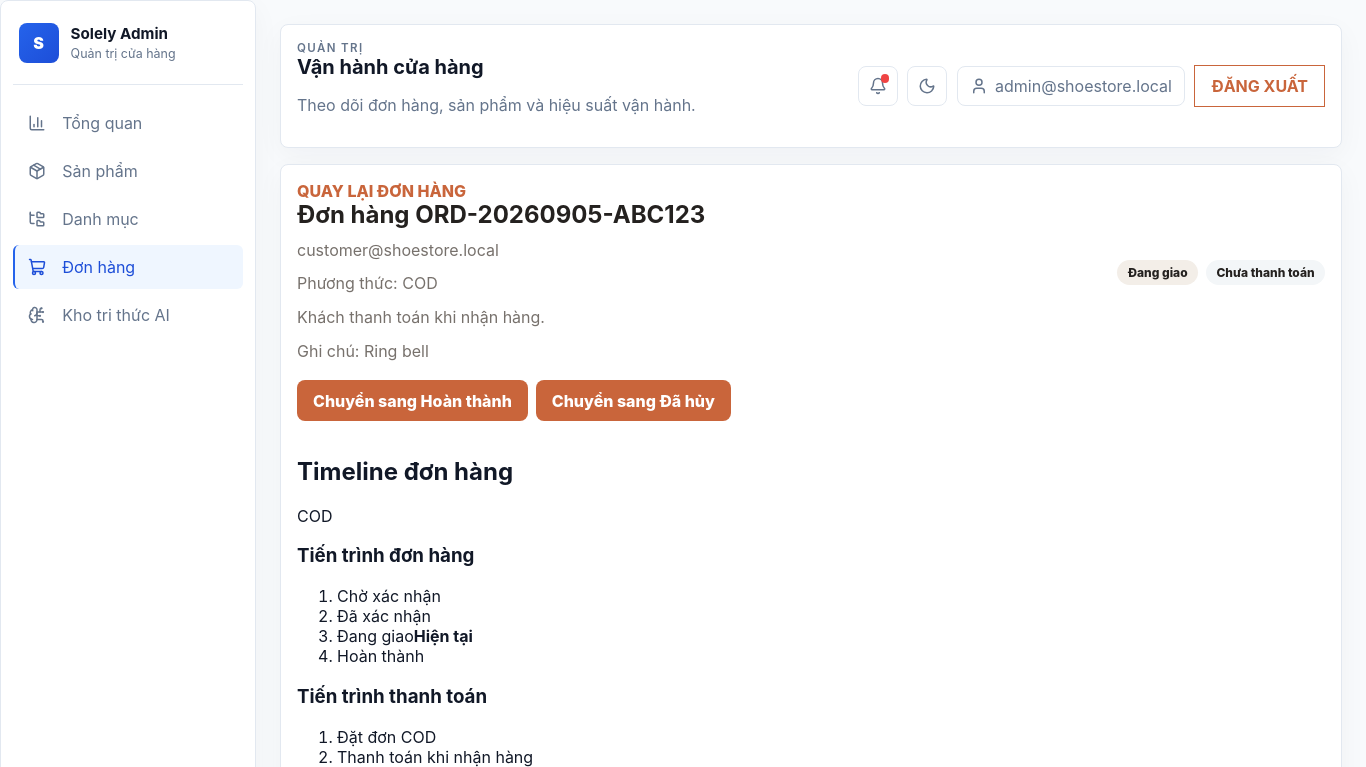
Test: admin flow › updates order status to completed
Expected: the heading "Đơn hàng ORD-20260905-ABC123" is shown, [297,201,705,230]
Click the button "Chuyển sang Hoàn thành". click: (412, 401)
box: [297,380,528,421]
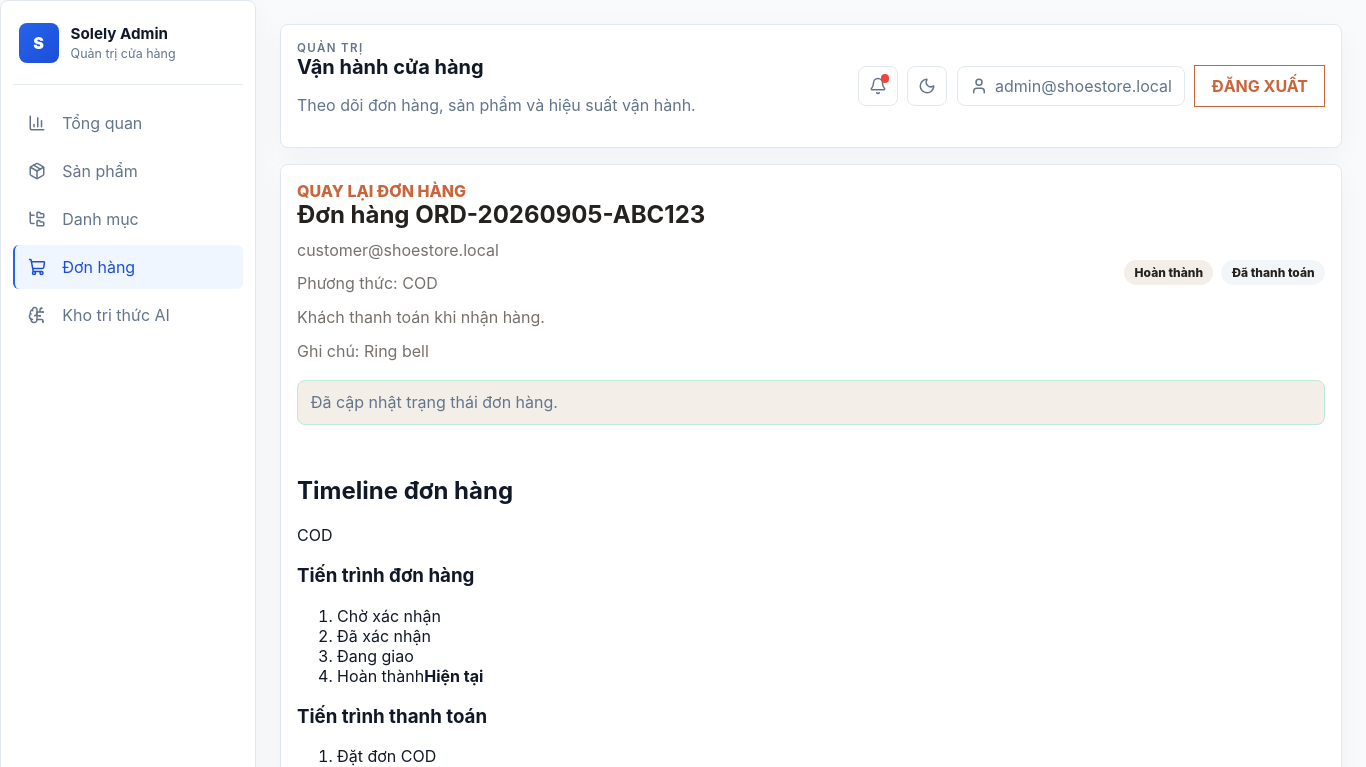
Expected: the text "Đã cập nhật trạng thái đơn hàng." is shown, [297,380,1325,425]
Expected: the text "Đã thanh toán" is shown, [1221,260,1325,285]
